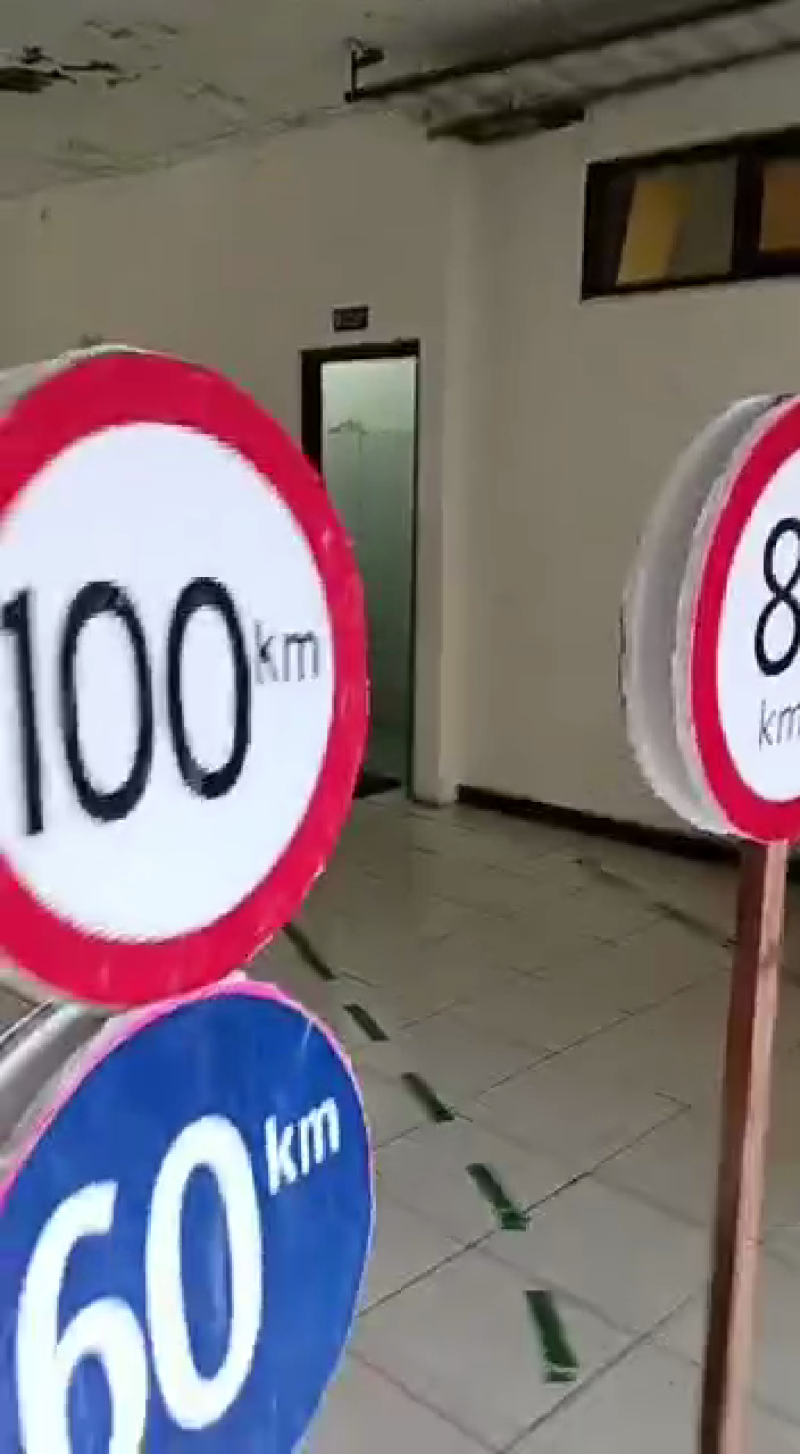batas maksimal 100kmperjam minimal 60kmperjam: (1, 320, 398, 1454)
batas maksimal 80kmperjam: (672, 368, 800, 846)
